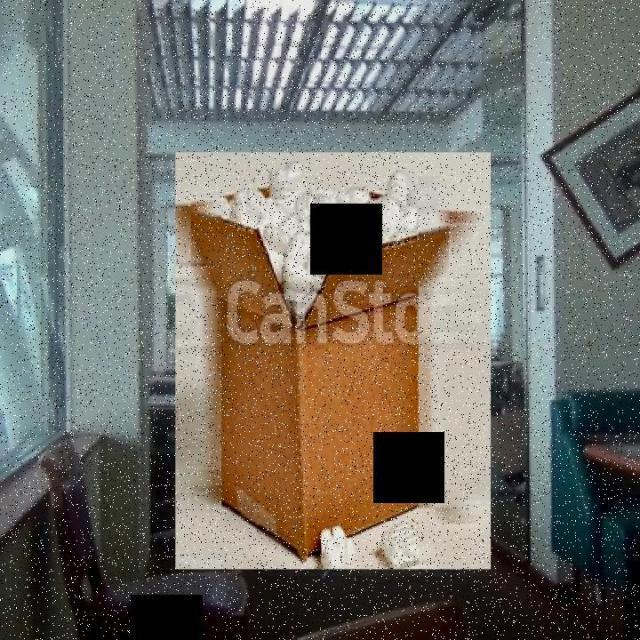box: (171, 146, 497, 576)
